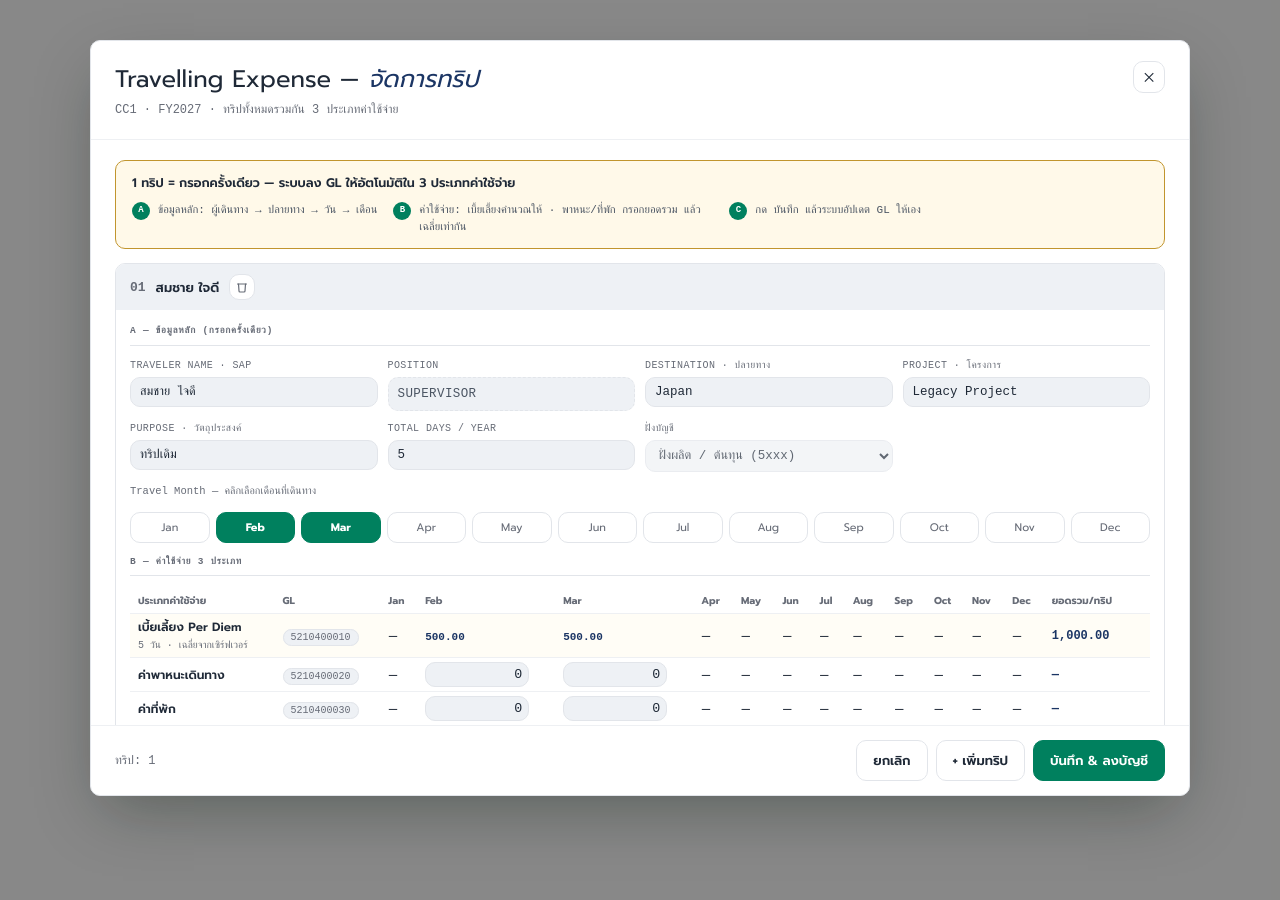
Test: TripManager › shows "รอคำนวณหลังบันทึก" (never a client-computed number) once the trip is edited
Check: the element with test id "trip-card-existing-10" is shown, box [115,264,1165,725]
Replace the text in the field named "days existing-10" with "9" at point(511, 456), box [388,440,635,470]
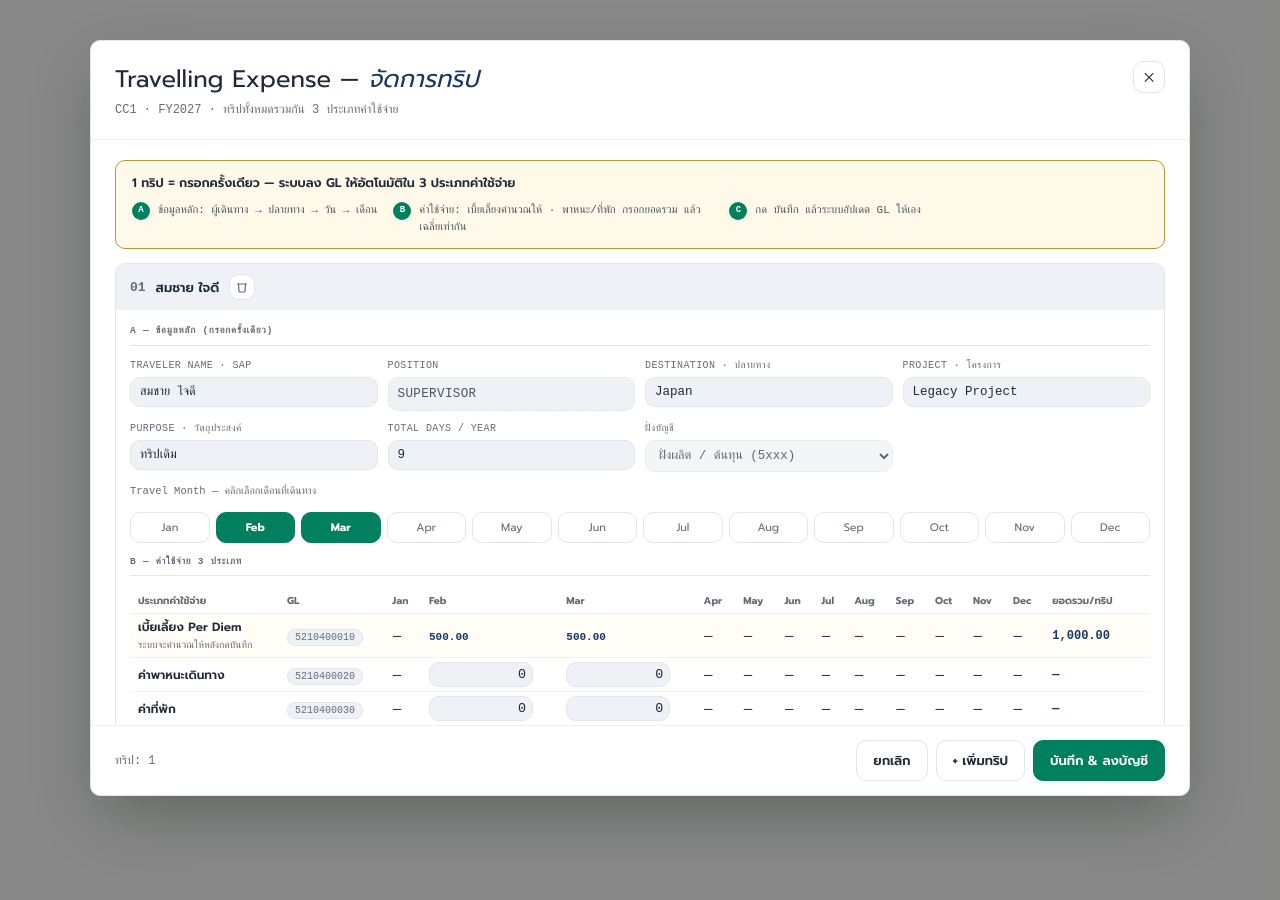
Check: the text "ระบบจะคำนวณให้หลังกดบันทึก" is shown, box [138,640,252,652]
